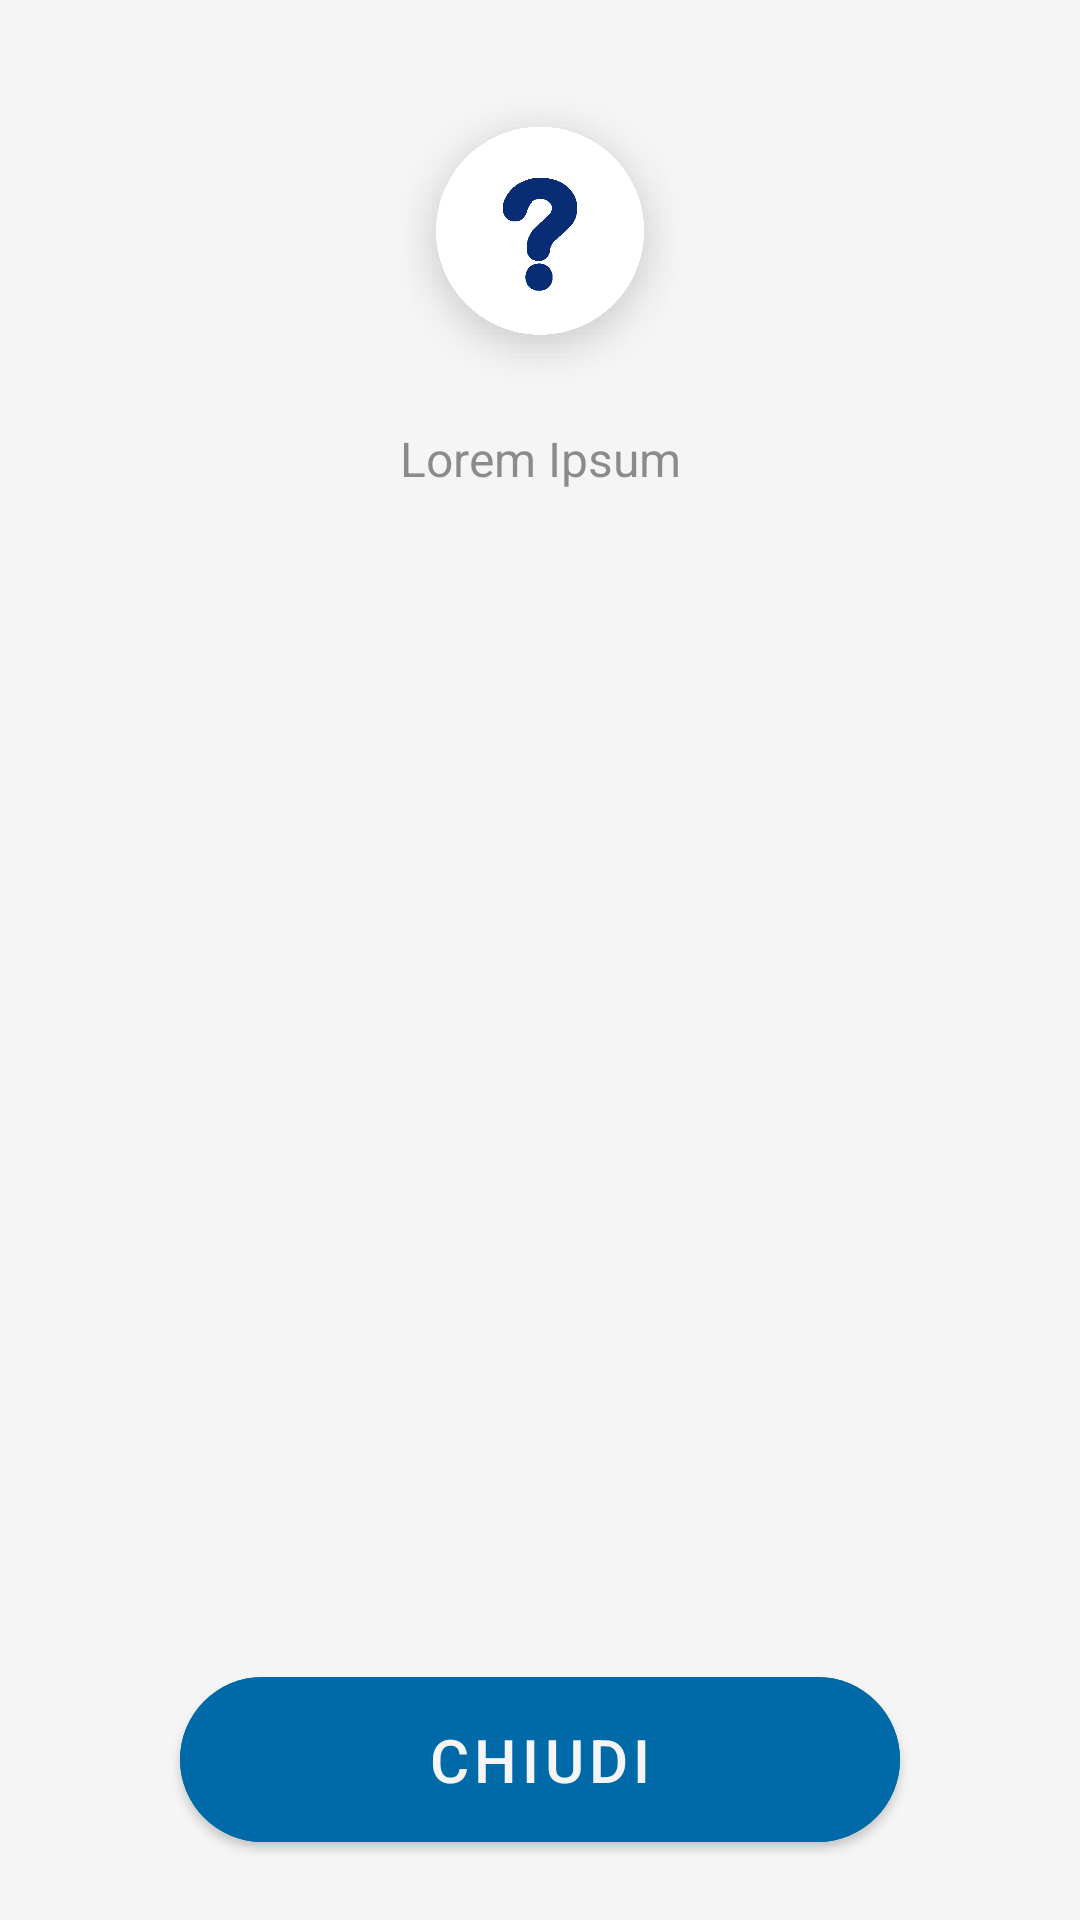

Point at icon controls on the screen. Image size 1080w x 1920h, points as (x,y).
question round: (540,240)
